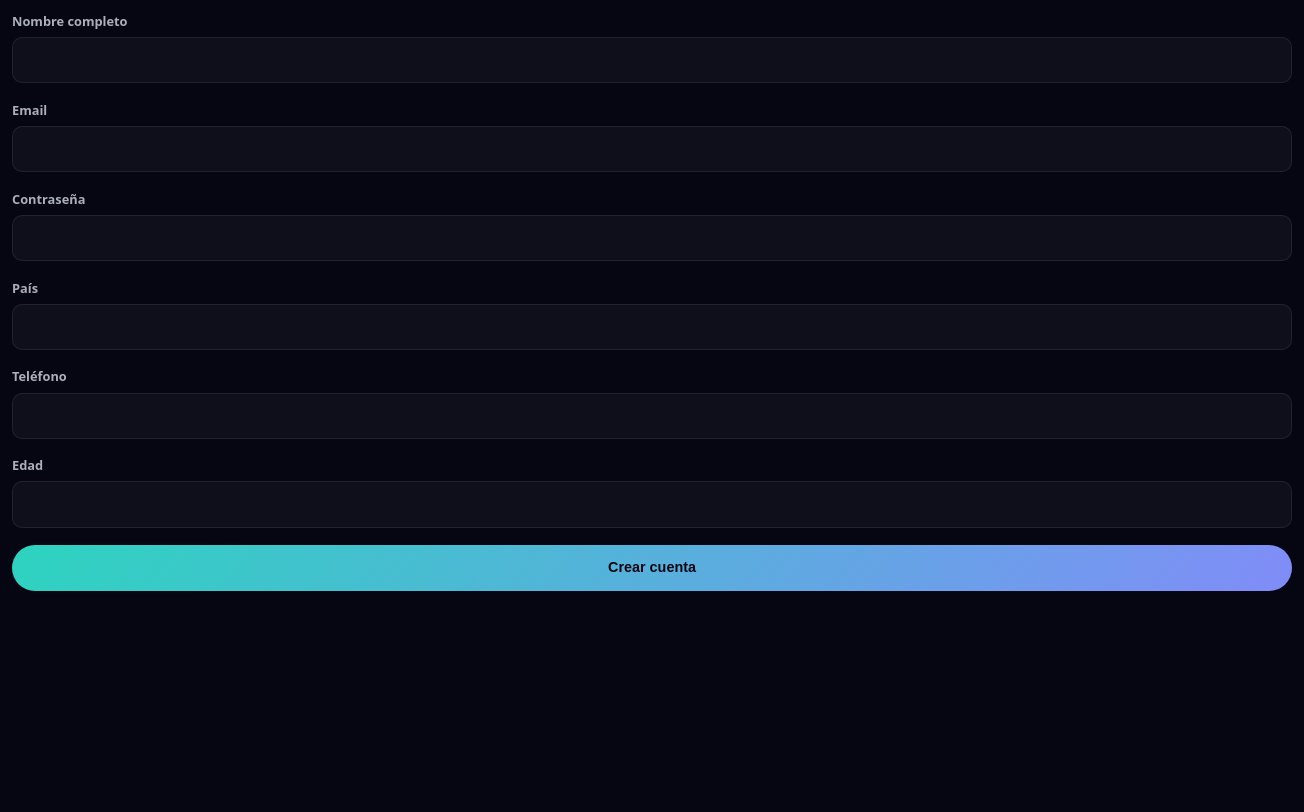
Register › shows the server error message on a duplicate-email conflict
Type "Ana García" into the field labelled "Nombre completo" at (652, 60), box [12, 37, 1292, 83]
Type "ana@example.com" into the field labelled "Email" at (652, 149), box [12, 126, 1292, 172]
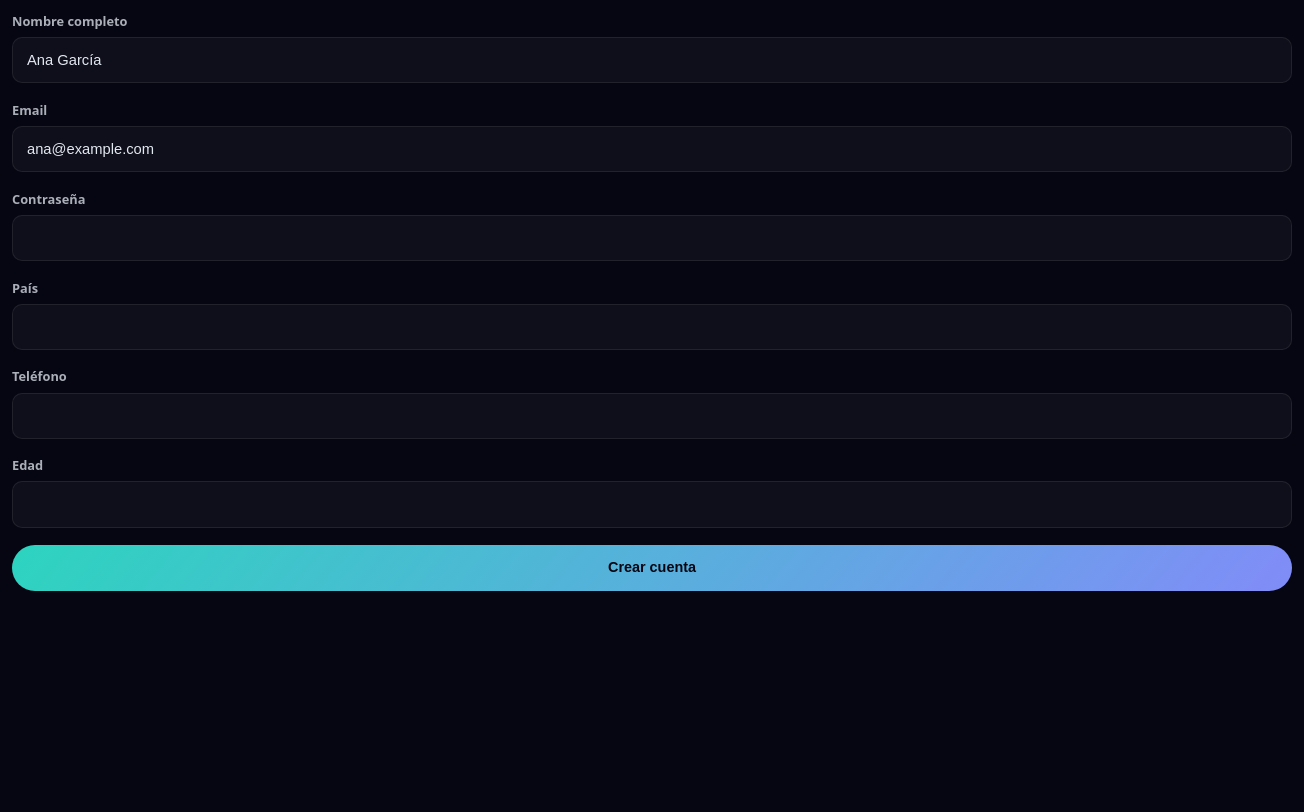
Type "Sup3rSecret!" into the password field labelled "Contraseña" at (652, 238), box [12, 215, 1292, 261]
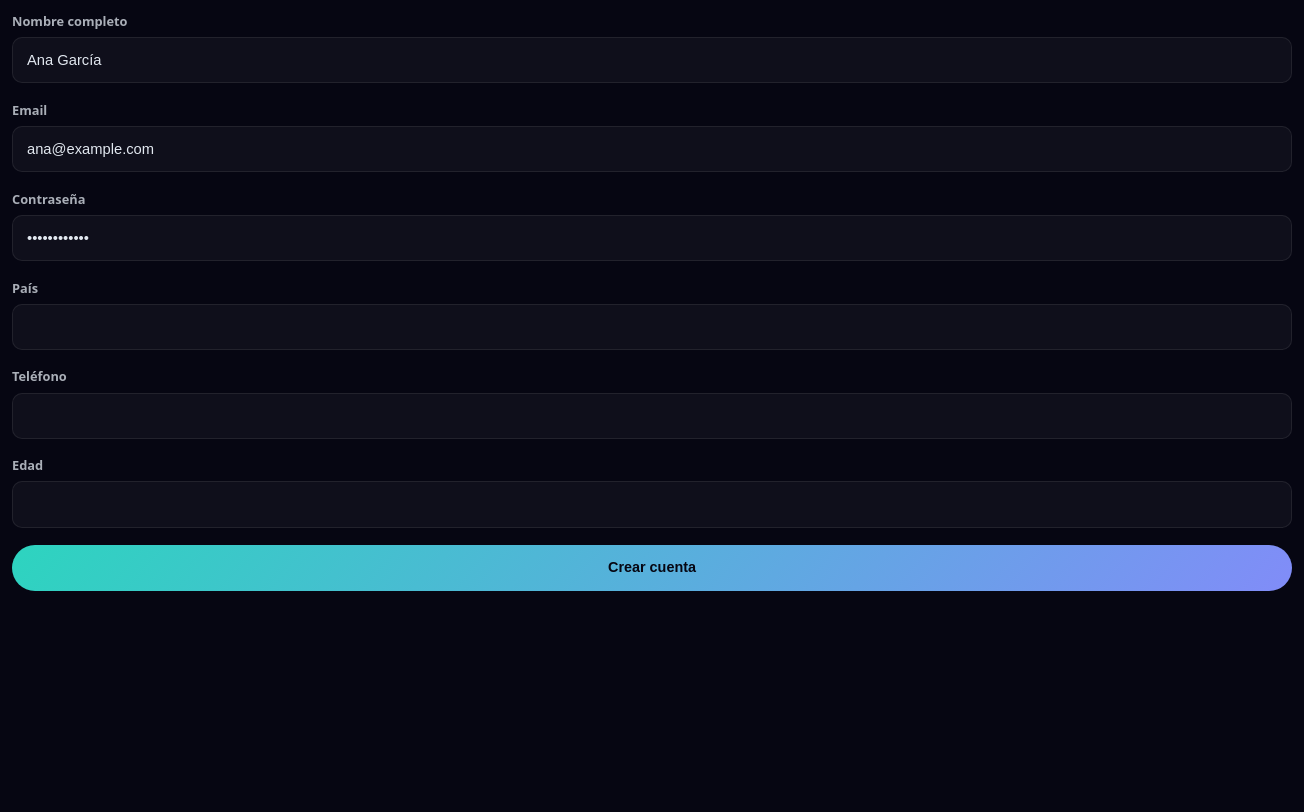
Type "España" into the field labelled "País" at (652, 327), box [12, 304, 1292, 350]
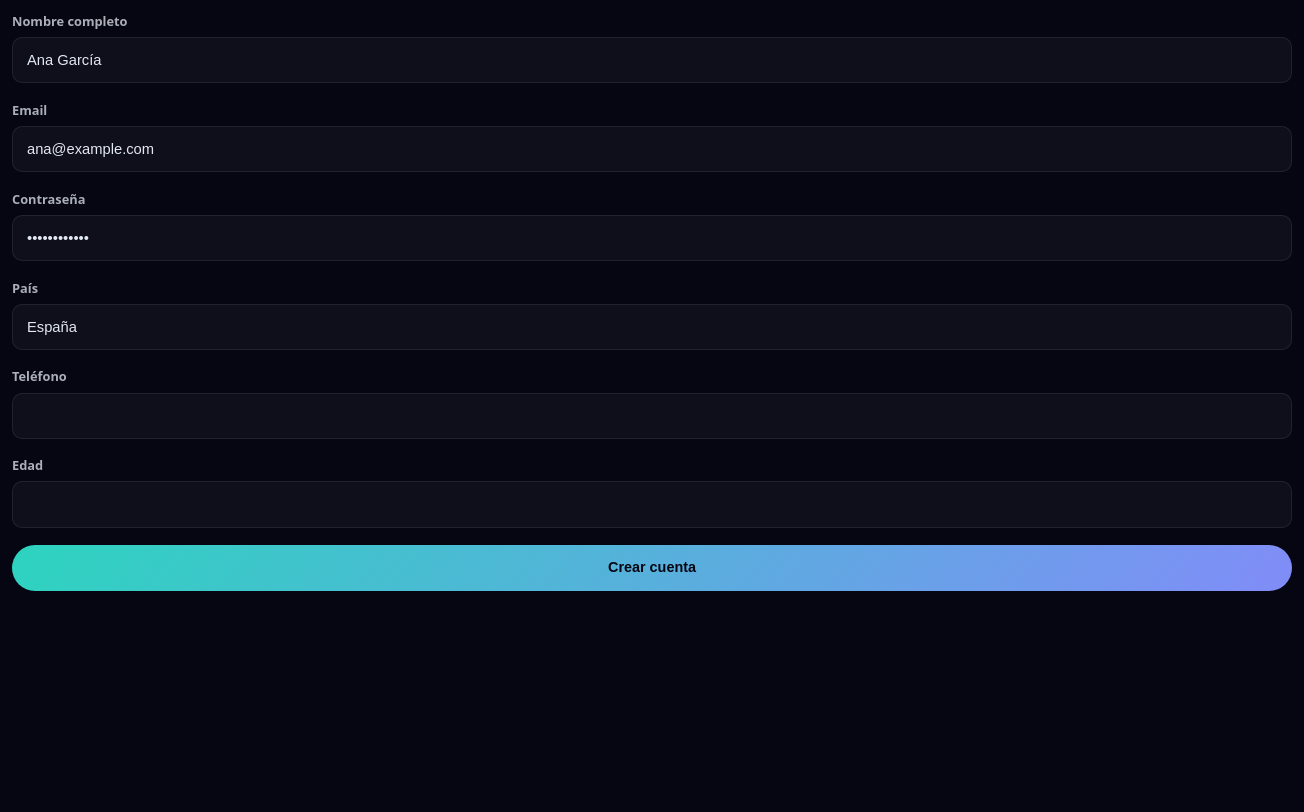
Type "+34600111222" into the field labelled "Teléfono" at (652, 416), box [12, 393, 1292, 439]
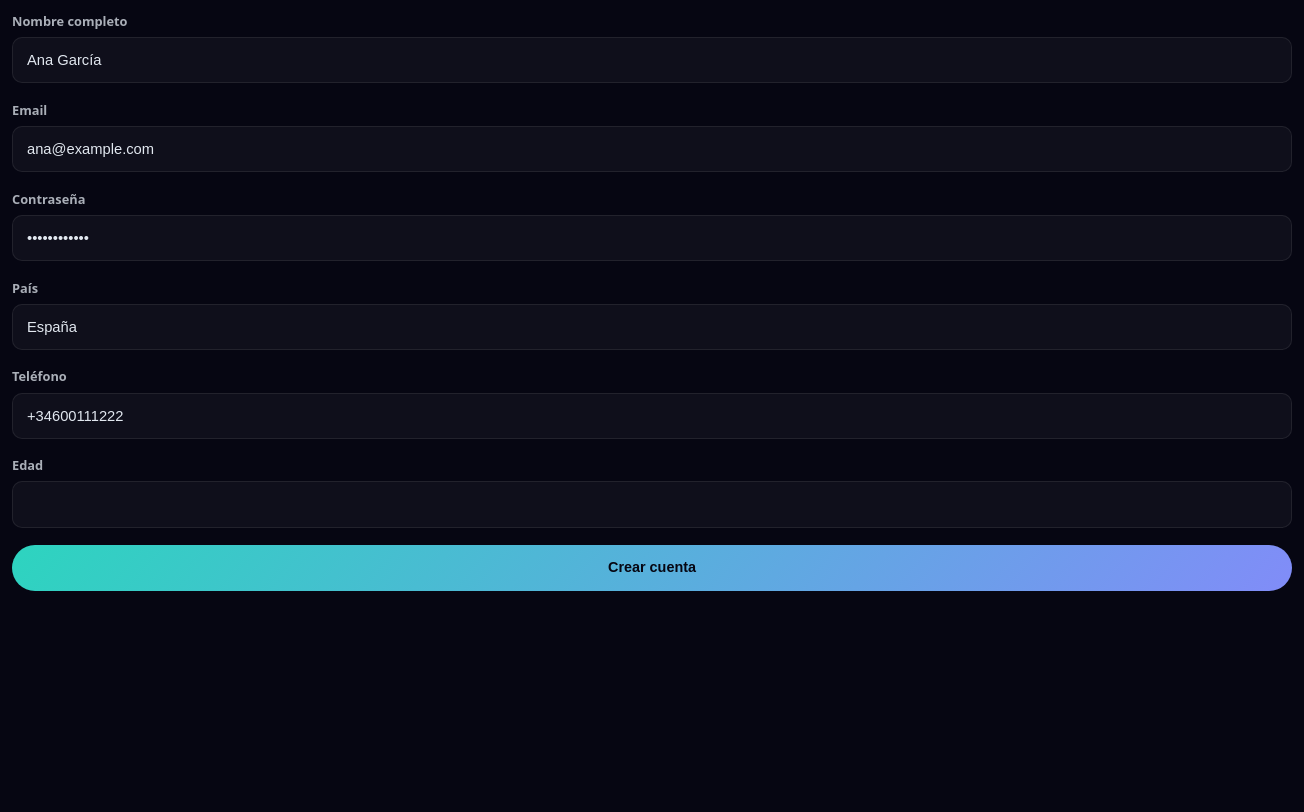
Type "29" into the number field labelled "Edad" at (652, 505), box [12, 482, 1292, 528]
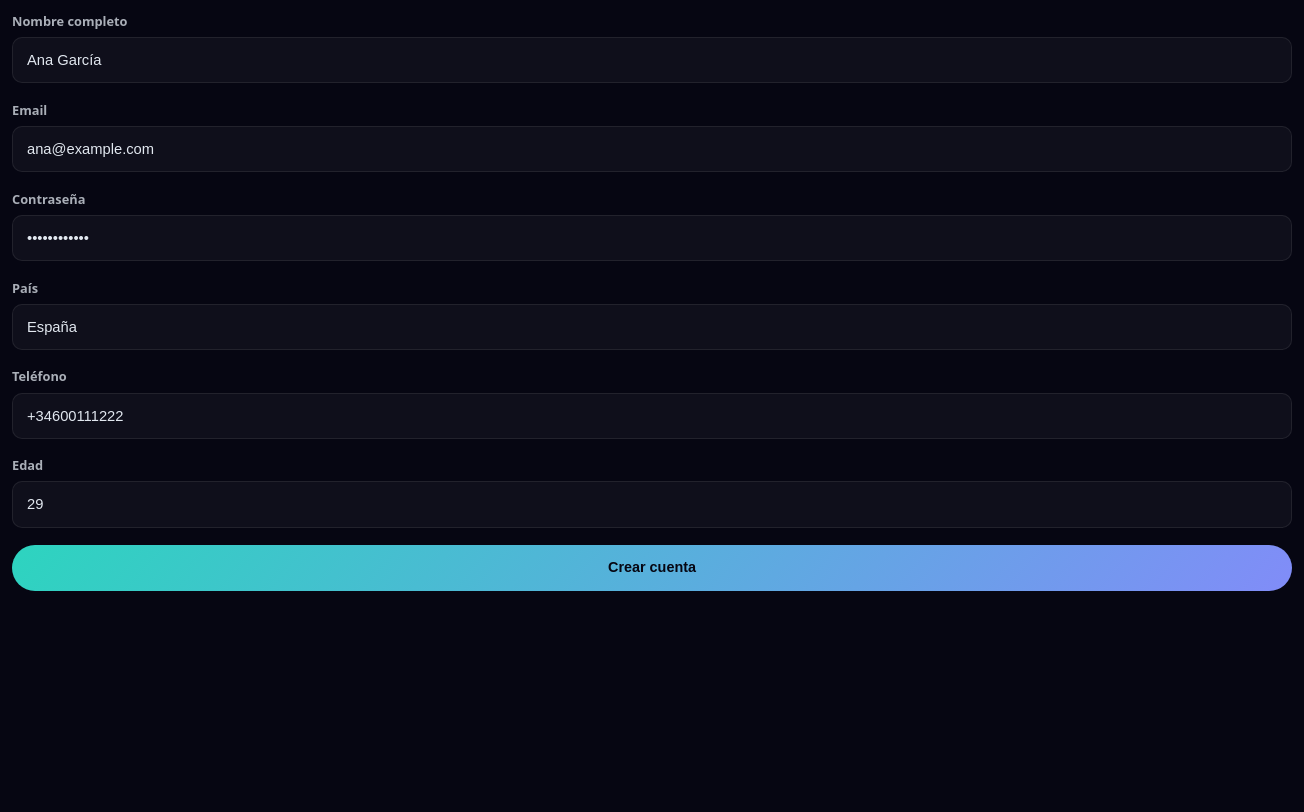
Click the button "Crear cuenta" at (652, 568), box [12, 545, 1292, 591]
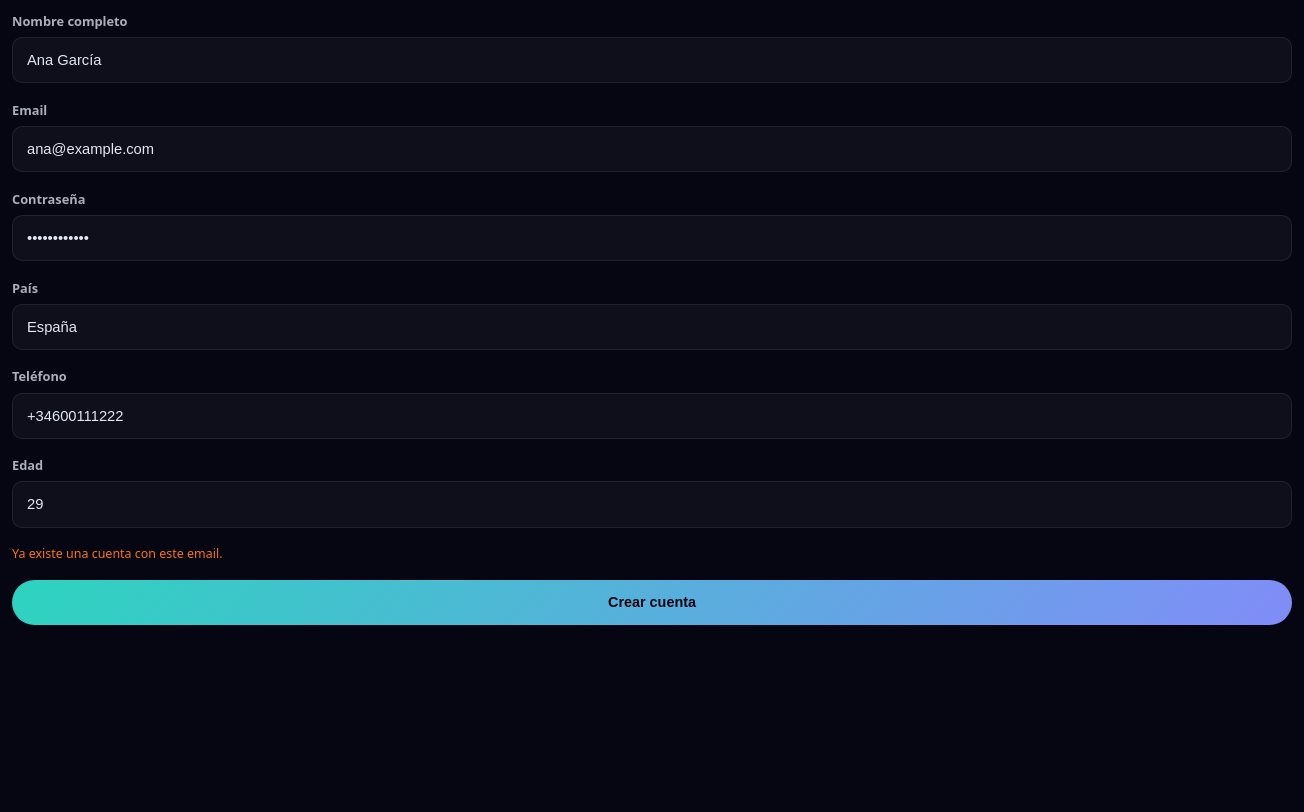
Expected: the text "Ya existe una cuenta con este email." is shown, [12, 545, 223, 562]
